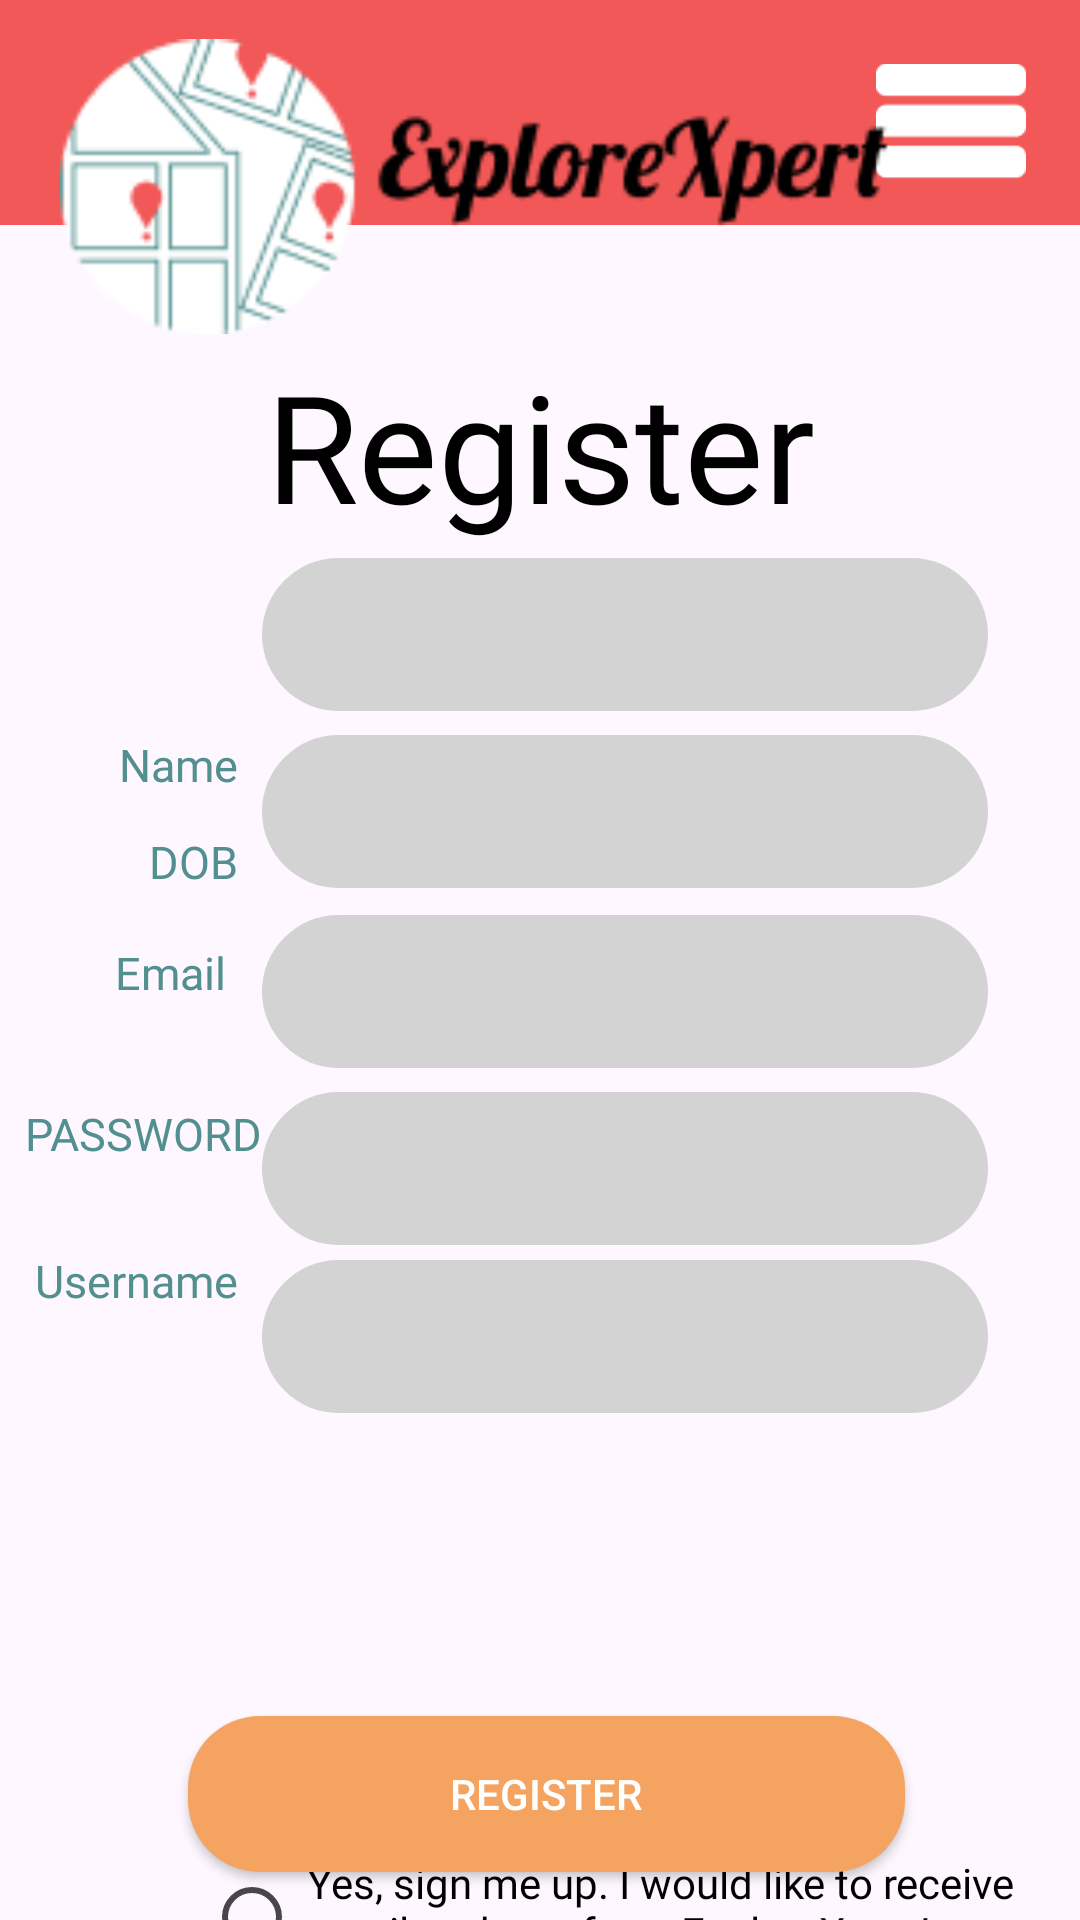

Where icons sit on this 1080*1920 app screen, as {"x1": x1, "y1": y1, "x2": x2, "y2": y2}:
Menu Button: {"x1": 876, "y1": 64, "x2": 1026, "y2": 196}
